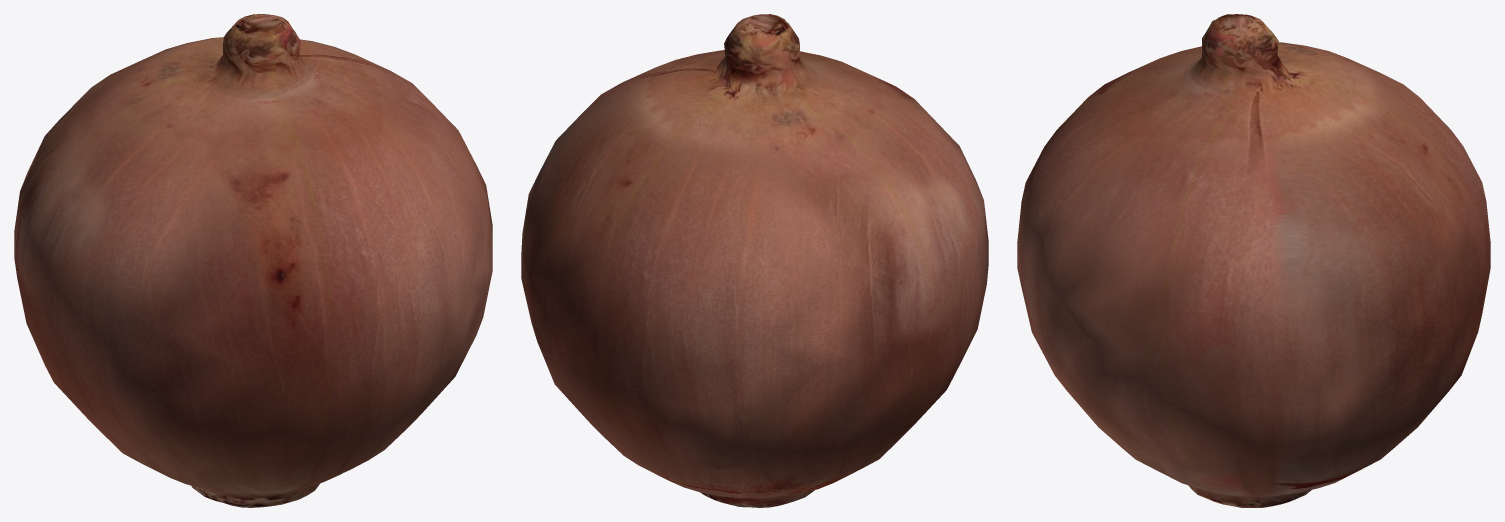
File: ingredient-onion.glb
3 views of the same model, side by side, from view 1: azimuth 30°, elevation 25°; view 2: azimuth 150°, elevation 25°; view 3: azimuth 270°, elevation 25° (orthographic). The views are drawn at different scales.
Parts seen in each view (by area): view 1: Onion; view 2: Onion; view 3: Onion.
Part boxes in pixels (x1,y1,x2,y2): Onion: (14,14,492,507); Onion: (521,14,988,507); Onion: (1017,14,1490,507).
Bounding box in the file's own units: 0.9576 × 1.05 × 0.9576.
1 material, 1 textured.
